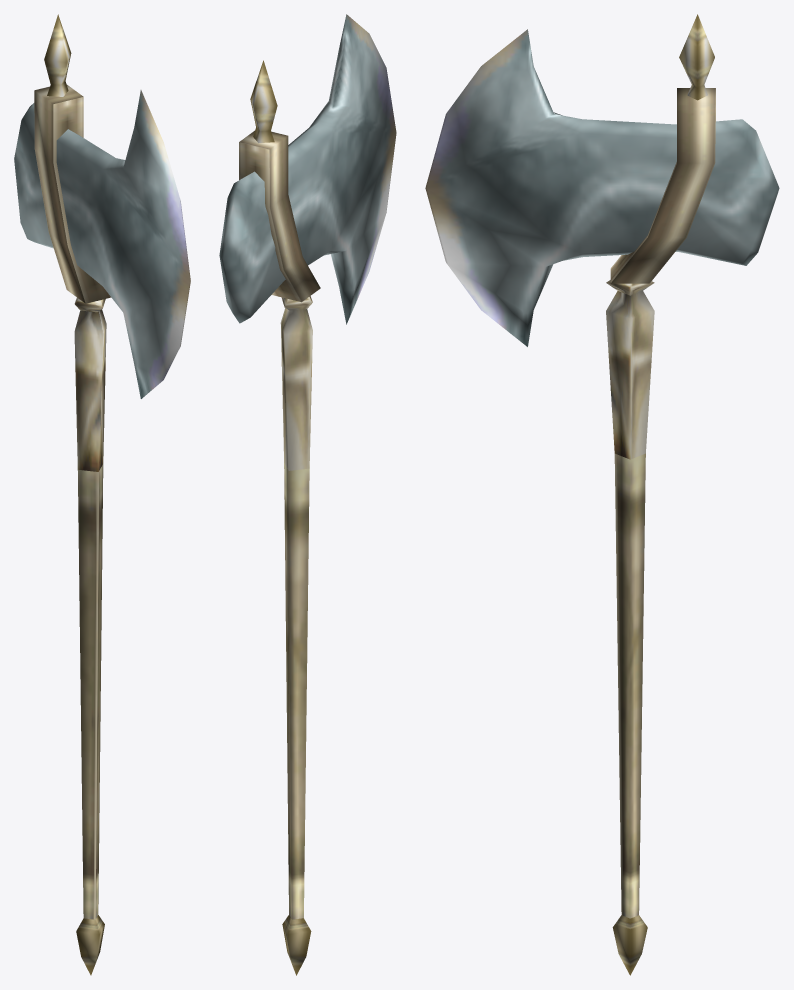
The model's file is heavyaxeman0z.obj.
The picture shows the model from 3 angles, left to right: view 1: azimuth 30°, elevation 25°; view 2: azimuth 150°, elevation 25°; view 3: azimuth 270°, elevation 25°; orthographic projection. The views are drawn at different scales.
Visible parts, largest first — view 1: heavyaxeman0z; view 2: heavyaxeman0z; view 3: heavyaxeman0z.
Part boxes in pixels (x1,y1,x2,y2): heavyaxeman0z: (14,14,190,975); heavyaxeman0z: (219,14,396,975); heavyaxeman0z: (425,14,779,975).
Bounding box in the file's own units: 0.0974 × 2.72 × 0.9076.
